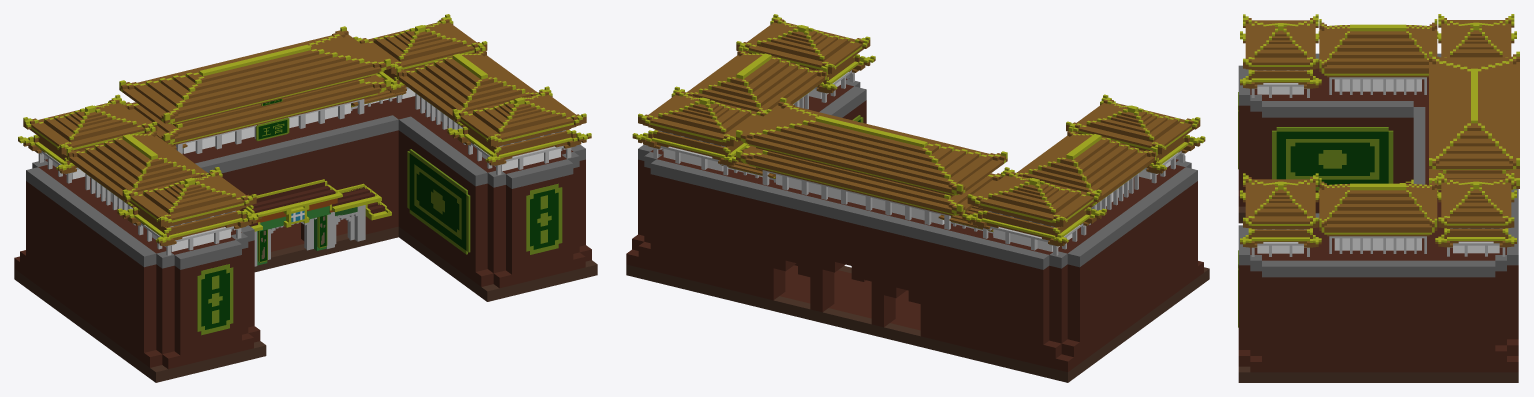
Rendered from Palacio.obj.
The picture shows the model from 3 angles, left to right: view 1: azimuth 30°, elevation 25°; view 2: azimuth 150°, elevation 25°; view 3: azimuth 270°, elevation 25°; orthographic projection.
Parts seen in each view (by area): view 1: Basepalacio.005, Basepalacio3, Pilar1, Pilar1.003_Pilar1.002, Pilar2.001_Pilar2.002, Pilar2, Pilar1.002_Pilar1.005, Pancarta2.003, Pilar1.001, Puerta3, pancarta1.003, pancarta1.002 (+3 smaller); view 2: Basepalacio.005, Basepalacio3, Pilar1.002_Pilar1.005, Pilar1.001, Pilar2, Pilar2.001_Pilar2.002, Pilar1, Pilar1.003_Pilar1.002; view 3: Basepalacio.005, Basepalacio3, Pilar2.001_Pilar2.002, Pilar2, Pancarta2.002, Pilar1.001, Pilar1, Pilar1.003_Pilar1.002, Pilar1.002_Pilar1.005.
Boxes of the visible parts, box(x1,y1,x2,y2) form: Basepalacio.005: box(14, 96, 597, 382); Basepalacio3: box(119, 26, 390, 154); Pilar1: box(117, 167, 261, 255); Pilar1.003_Pilar1.002: box(447, 86, 591, 175); Pilar2.001_Pilar2.002: box(396, 46, 542, 144); Pilar2: box(66, 127, 212, 225); Pilar1.002_Pilar1.005: box(18, 94, 157, 183); Pancarta2.003: box(407, 149, 470, 254); Pilar1.001: box(353, 14, 487, 102); Puerta3: box(243, 179, 342, 265); pancarta1.003: box(526, 183, 562, 254); pancarta1.002: box(197, 264, 233, 335); Basepalacio.005: box(626, 74, 1209, 382); Basepalacio3: box(736, 97, 1007, 229); Pilar1.002_Pilar1.005: box(962, 167, 1106, 255); Pilar1.001: box(632, 86, 771, 175); Pilar2: box(1010, 127, 1157, 225); Pilar2.001_Pilar2.002: box(681, 46, 827, 111); Pilar1: box(1066, 94, 1205, 183); Pilar1.003_Pilar1.002: box(736, 14, 875, 102); Basepalacio.005: box(1238, 53, 1518, 382); Basepalacio3: box(1429, 51, 1519, 190); Pilar2.001_Pilar2.002: box(1319, 178, 1437, 253); Pilar2: box(1319, 19, 1437, 94); Pancarta2.002: box(1272, 127, 1393, 190); Pilar1.001: box(1435, 173, 1516, 256); Pilar1: box(1240, 14, 1321, 97); Pilar1.003_Pilar1.002: box(1240, 173, 1321, 256); Pilar1.002_Pilar1.005: box(1437, 14, 1516, 57).
Bounding box in the file's own units: 4.32 × 1.71 × 2.42.
